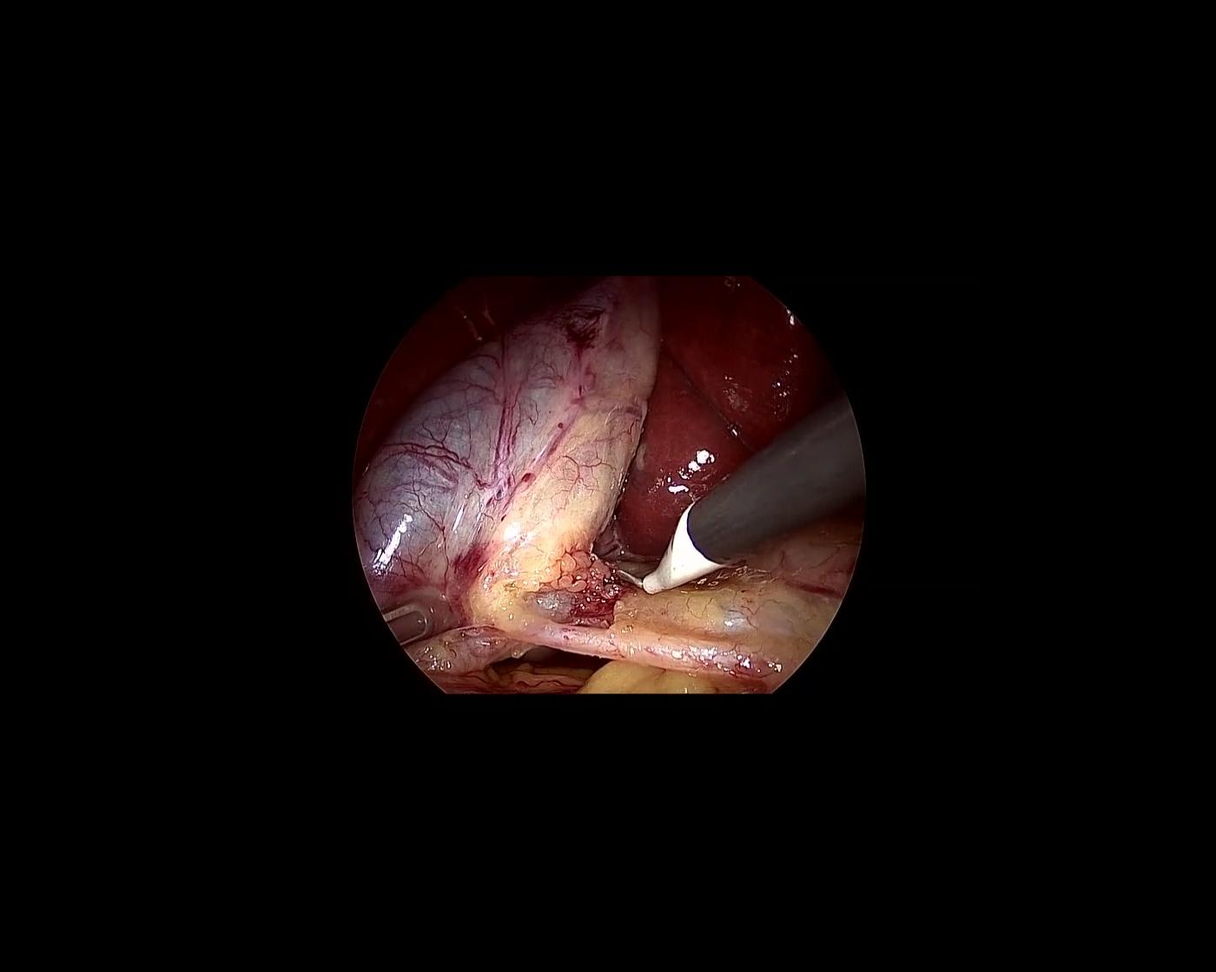Cautery: (595, 387, 897, 629)
Gallbladder: (291, 213, 752, 714)
Liver: (528, 250, 849, 566)
